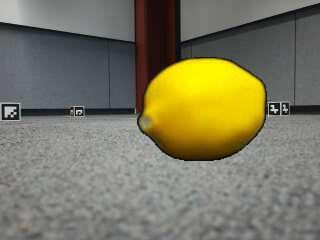lemon: (138, 60, 264, 161)
